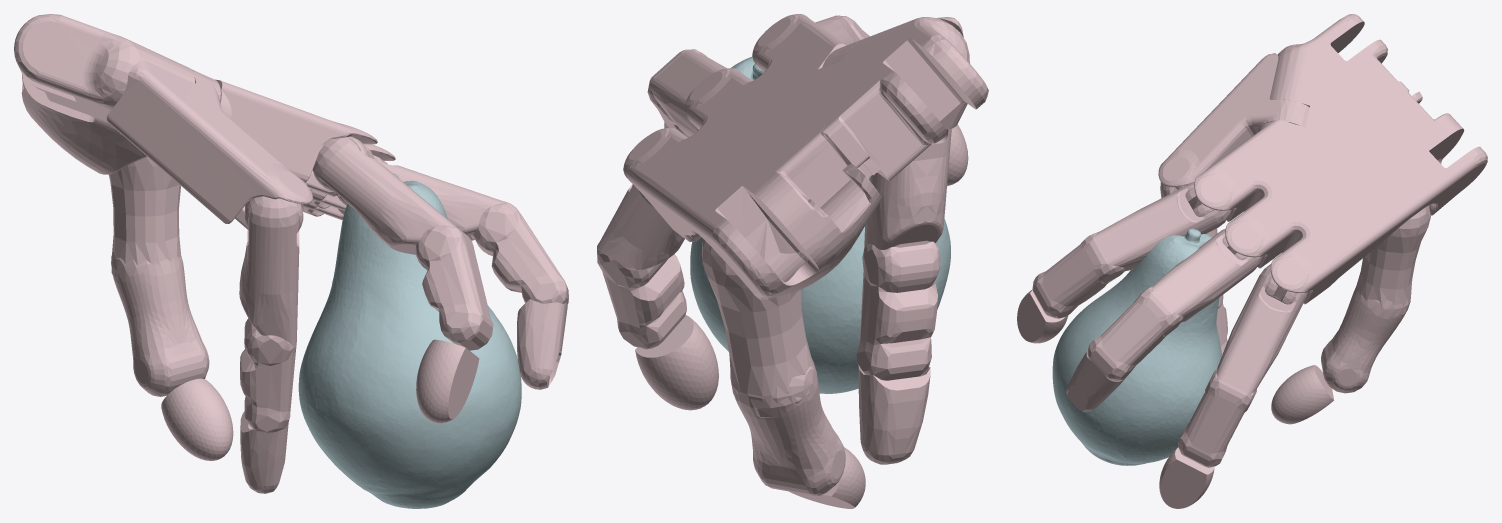
Rendered from grasp_8.glb.
3 renders of one model, left to right at view 1: azimuth 30°, elevation 25°; view 2: azimuth 150°, elevation 25°; view 3: azimuth 270°, elevation 25°, orthographic. The views are drawn at different scales.
Parts seen in each view (by area): view 1: world; view 2: world; view 3: world.
Part boxes in pixels (x1,y1,x2,y2): world: (14, 14, 568, 508); world: (597, 14, 988, 508); world: (1017, 14, 1487, 508).
Size of the model in its own units: 0.1445 by 0.1561 by 0.1809.
